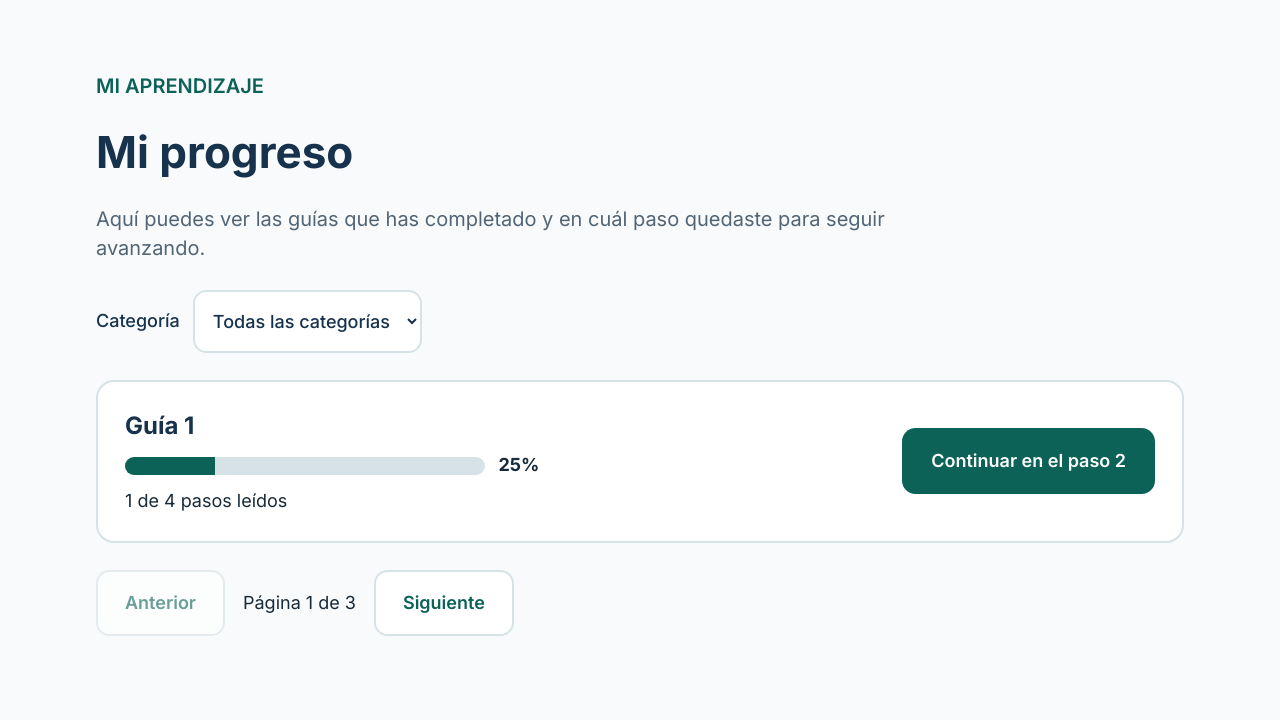
Test: ProgresoPage (HU-23 · C-10) › pagina contra el servidor cuando hay más de 20 guías
This screenshot has width=1280, height=720.
Check: the heading "Guía 1" is shown, box [125,411,194,440]
Click the button "Siguiente" at (444, 603), box [374,570,514,636]
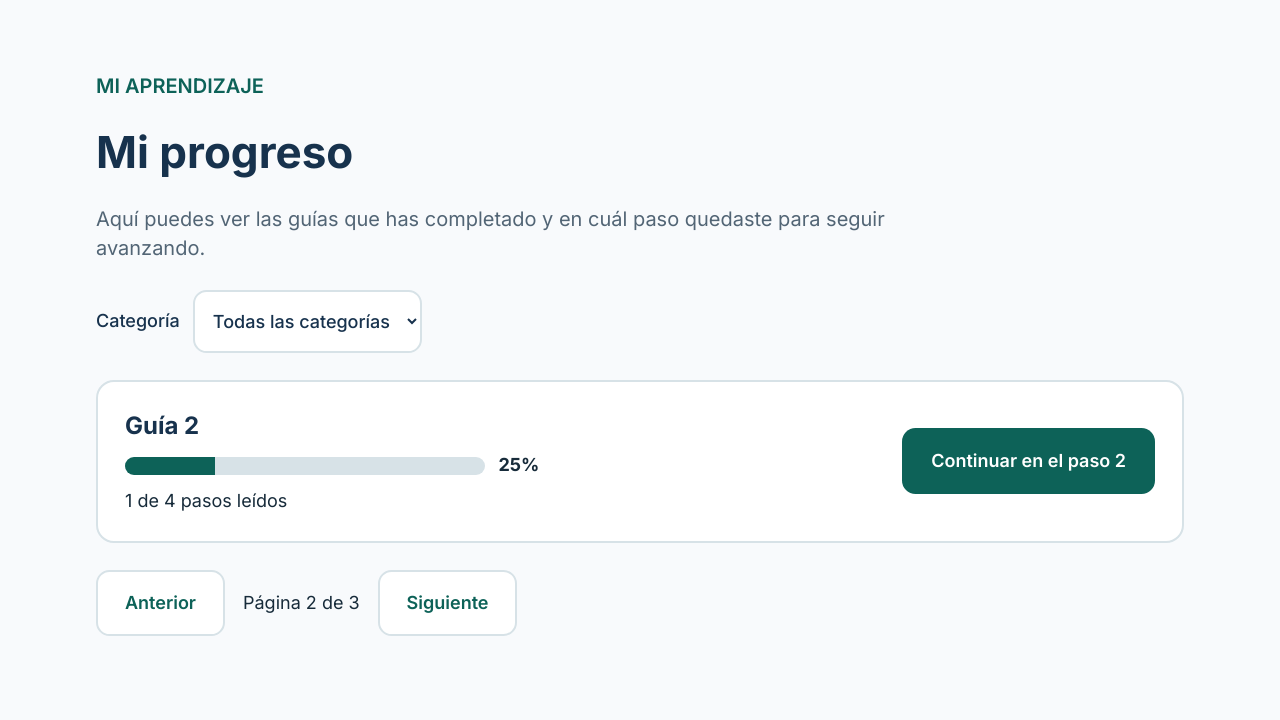
Check: the heading "Guía 2" is shown, box [125,411,199,440]
